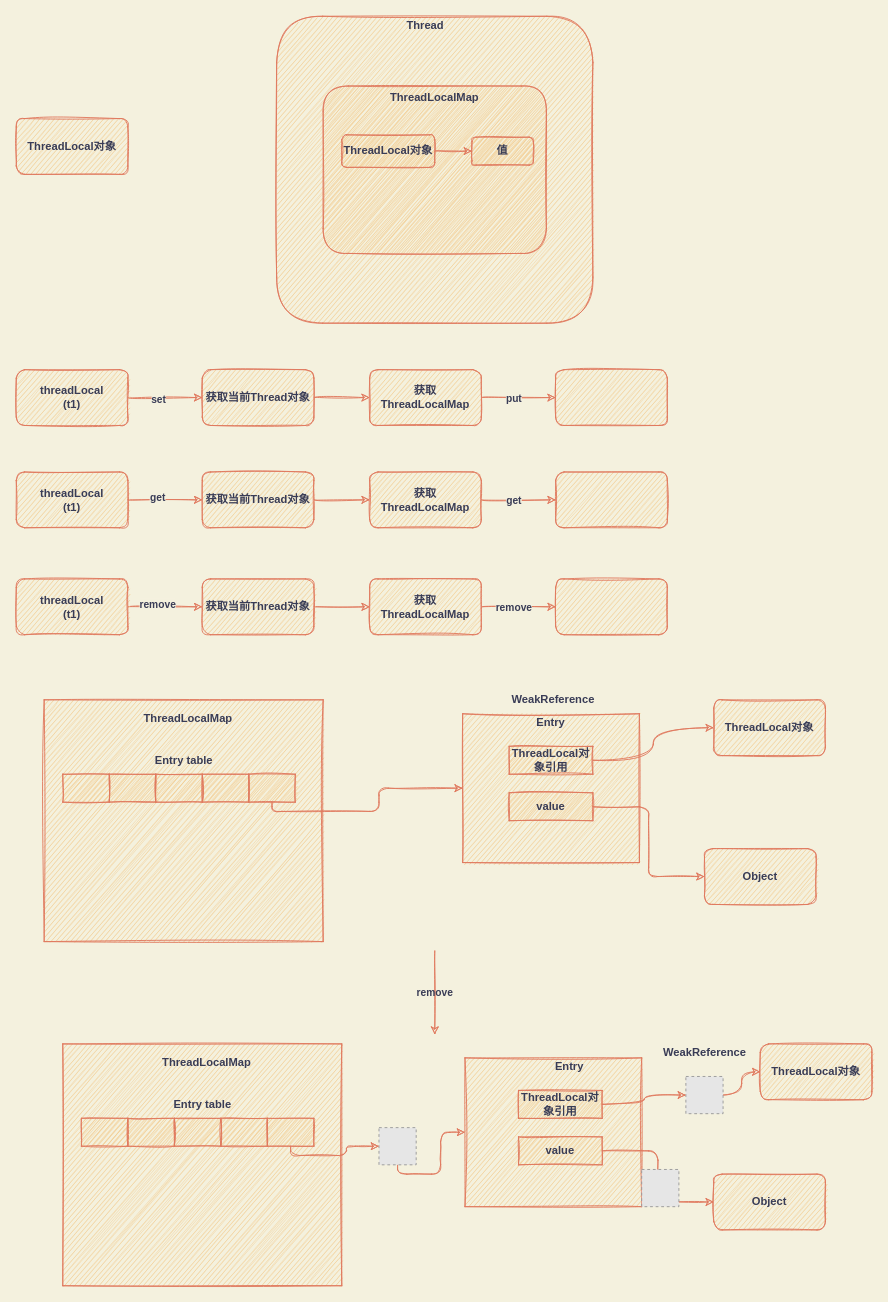
Some shapes in this 888 by 1302 pixel diagram are drawn without their labels. Grey dashed boxes stand in for pictures. Each missing label, with the centre of its shape:
"get key = t1" goes at (611,499).
"remove key = t1" goes at (611,606).
"（t1, value）" goes at (611,397).
